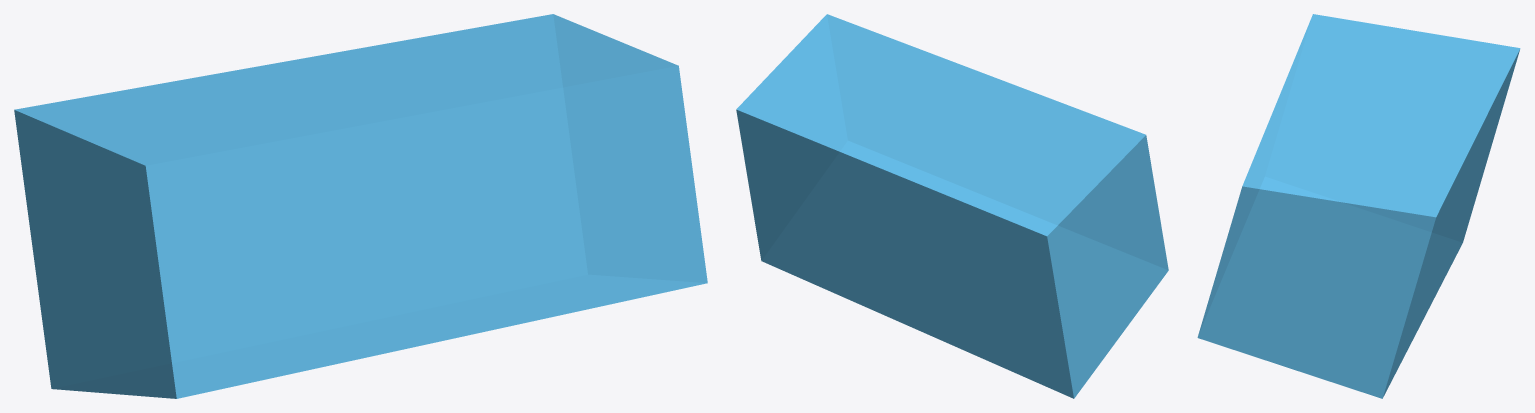
Rendered from Event_421278790_HErechit_3.fbx.
3 renders of one model, left to right at view 1: azimuth 30°, elevation 25°; view 2: azimuth 150°, elevation 25°; view 3: azimuth 270°, elevation 25°, orthographic. The views are drawn at different scales.
Parts seen in each view (by area): view 1: Model; view 2: Model; view 3: Model.
Boxes of the visible parts, x1,y1,x2,y2 form: Model: (14,14,707,398); Model: (736,14,1168,398); Model: (1197,14,1520,398).
Size of the model in its own units: 0.7358 by 0.4467 by 0.5469.
